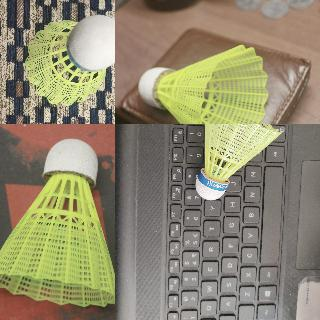shuttlecock: (0, 138, 114, 308), (138, 44, 269, 123), (24, 15, 114, 106), (194, 124, 281, 201)
